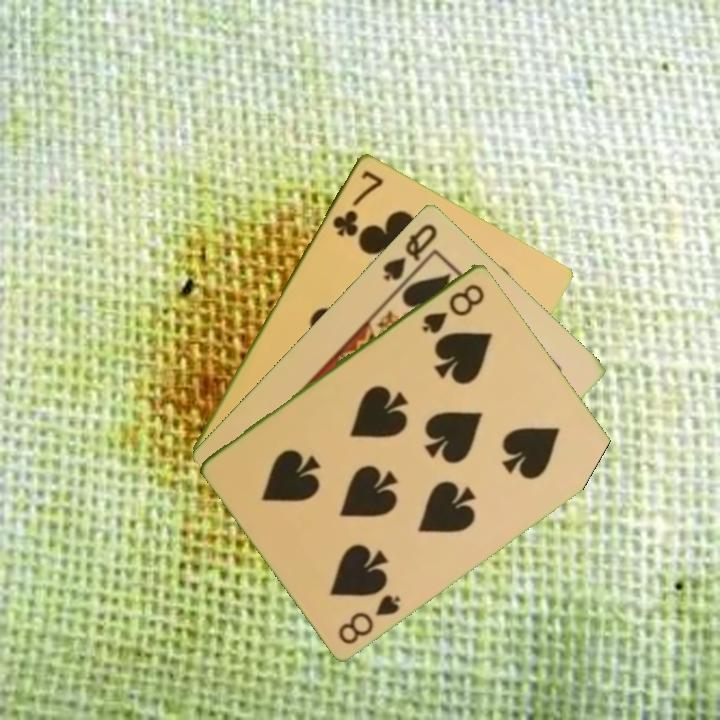7c: (328, 166, 386, 239)
8s: (419, 279, 488, 337), (334, 590, 404, 647)
Qs: (379, 219, 440, 284)
